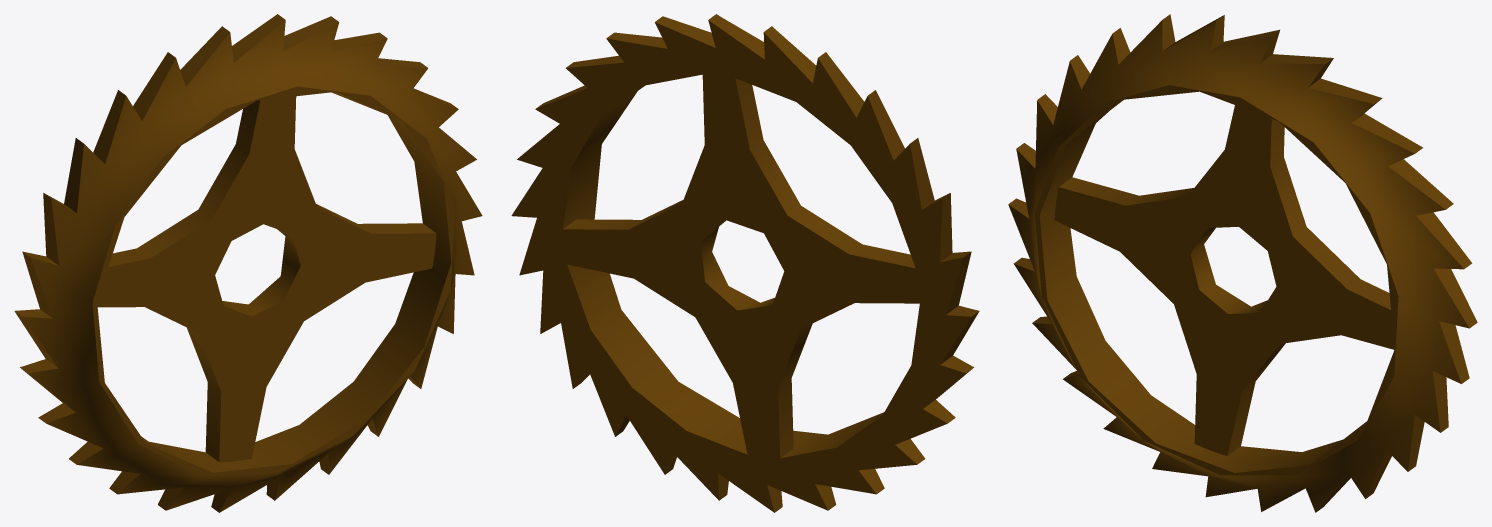
The model's file is Disque dente barillet arriere_Heures.obj.
3 renders of one model, left to right at view 1: azimuth 30°, elevation 25°; view 2: azimuth 150°, elevation 25°; view 3: azimuth 330°, elevation 25°, orthographic.
Parts seen in each view (by area): view 1: Face_66, Face_65, Face_11, Face_14, Face_1, Face_9, Face_2, Face_4, Face_20, Face_22, Face_7, Face_18 (+5 smaller); view 2: Face_10, Face_11, Face_1, Face_2, Face_4, Face_9, Face_7, Face_20, Face_22, Face_18, Face_24, Face_16 (+3 smaller); view 3: Face_66, Face_65, Face_11, Face_14, Face_7, Face_8, Face_9, Face_2, Face_5, Face_58, Face_60, Face_56 (+5 smaller).
Part boxes in pixels (x1,y1,x2,y2): Face_66: [23, 22, 482, 512]; Face_65: [97, 96, 436, 462]; Face_11: [141, 92, 451, 472]; Face_14: [92, 86, 454, 475]; Face_1: [198, 100, 260, 218]; Face_9: [222, 229, 300, 316]; Face_2: [108, 209, 211, 266]; Face_4: [186, 327, 221, 461]; Face_20: [133, 52, 175, 120]; Face_22: [93, 90, 125, 163]; Face_7: [316, 204, 435, 233]; Face_18: [180, 26, 229, 86]; Face_10: [511, 20, 971, 512]; Face_11: [563, 91, 884, 458]; Face_1: [735, 78, 800, 215]; Face_2: [787, 206, 915, 268]; Face_4: [778, 323, 812, 457]; Face_9: [700, 227, 774, 310]; Face_7: [563, 200, 683, 229]; Face_20: [818, 52, 864, 117]; Face_22: [868, 90, 904, 160]; Face_18: [764, 26, 816, 82]; Face_24: [910, 138, 934, 209]; Face_16: [708, 14, 764, 59]; Face_66: [1008, 20, 1469, 512]; Face_65: [1054, 105, 1394, 455]; Face_11: [1039, 112, 1342, 472]; Face_14: [1035, 85, 1398, 475]; Face_7: [1293, 227, 1390, 309]; Face_8: [1270, 119, 1306, 236]; Face_9: [1190, 227, 1267, 313]; Face_2: [1059, 177, 1193, 205]; Face_5: [1227, 343, 1285, 455]; Face_58: [1416, 212, 1472, 268]; Face_60: [1388, 159, 1453, 209]; Face_56: [1433, 268, 1477, 328].
Bounding box in the file's own units: 0.049 × 0.0488 × 0.0055.
